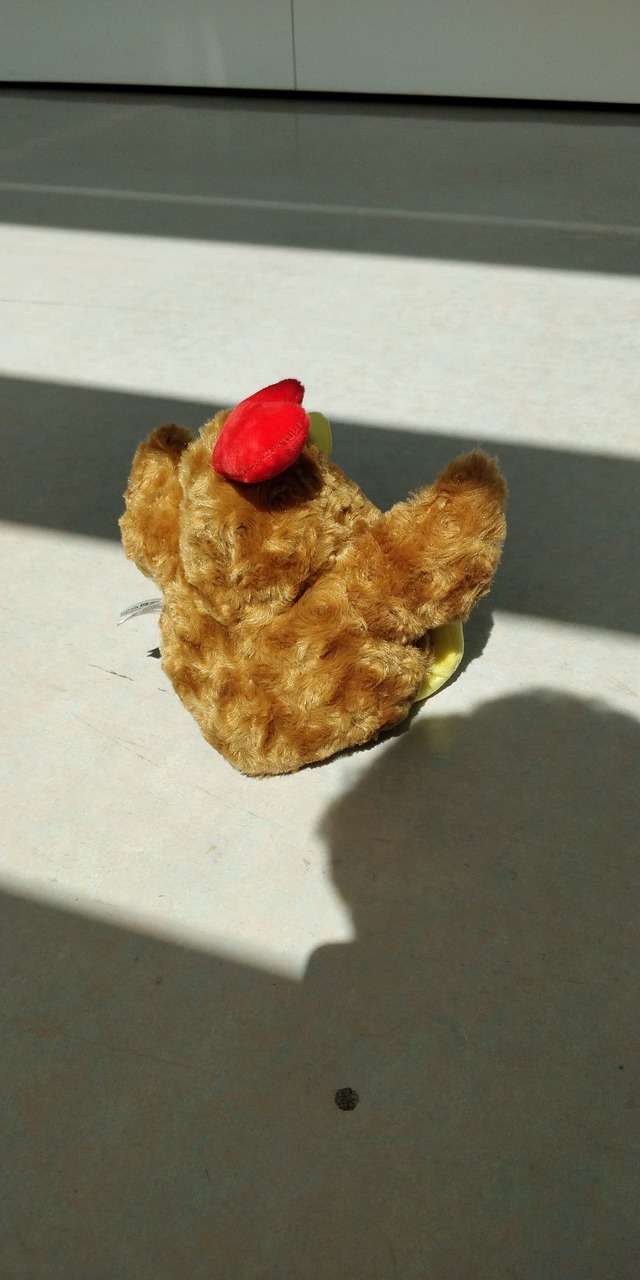fakeChicken: (118, 380, 508, 778)
